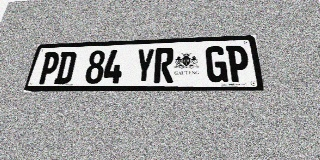4: (102, 49, 124, 84)
8: (84, 50, 107, 84)
D: (53, 51, 77, 84)
G: (205, 46, 228, 83)
P: (226, 45, 251, 82), (36, 52, 61, 84)
R: (153, 48, 174, 83)
Y: (134, 48, 155, 83)
